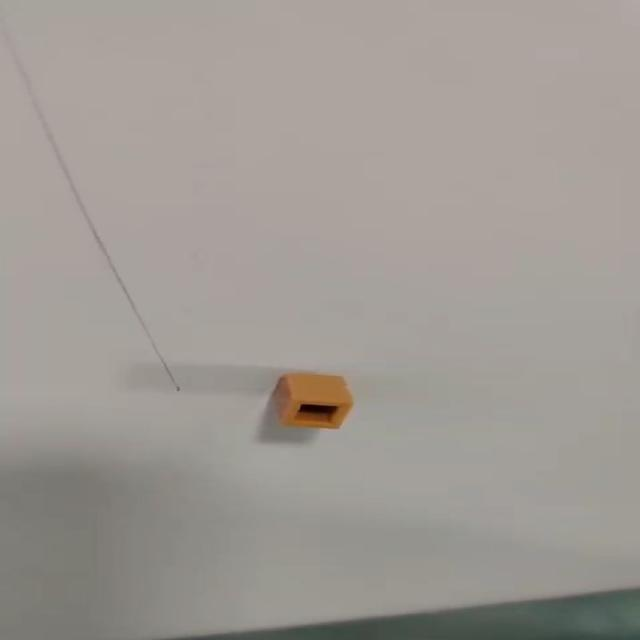C1x1x1: (270, 371, 354, 429)
